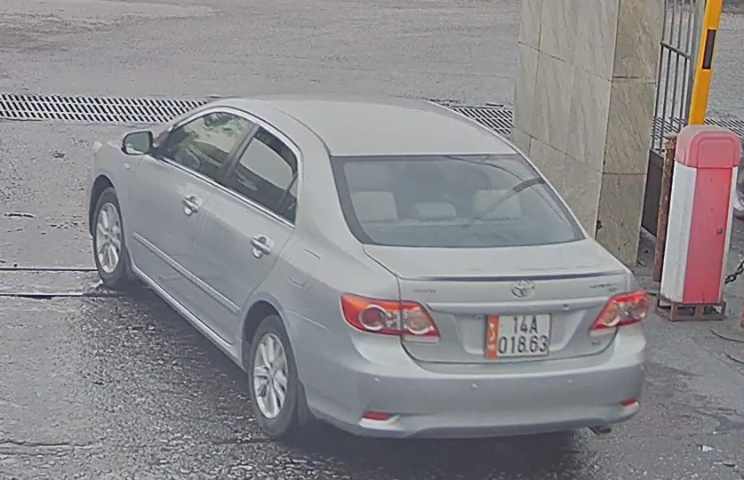vehicle plate: (484, 303, 556, 357)
